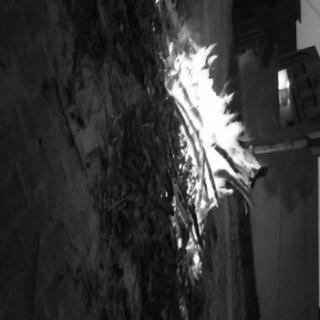Fire: (162, 42, 255, 276)
